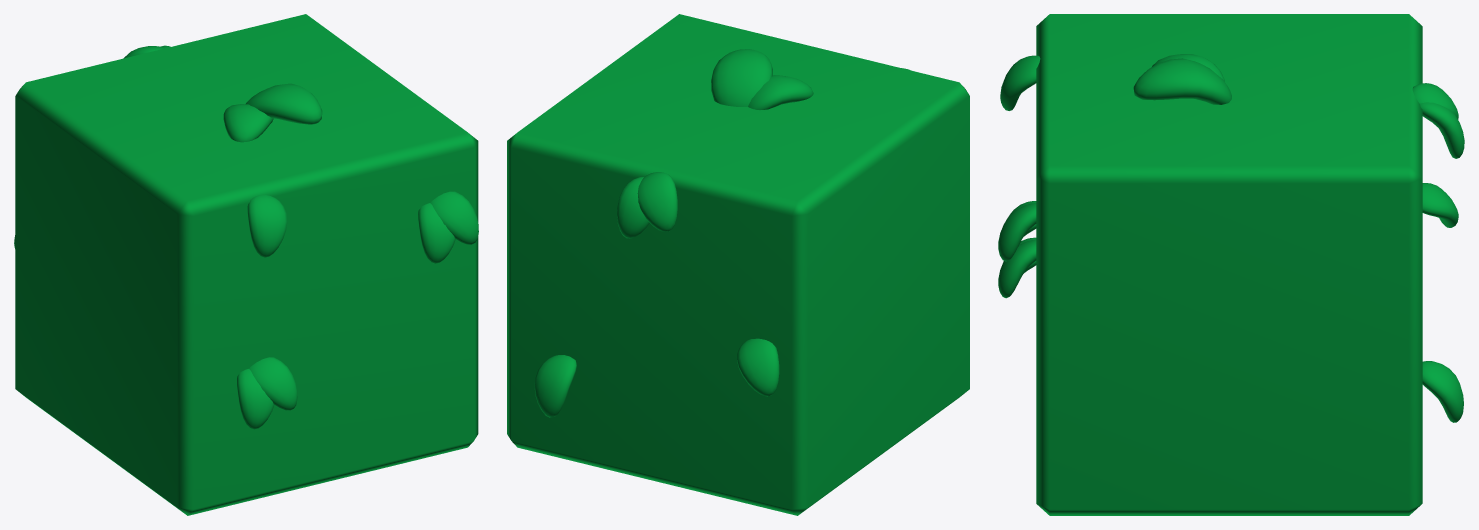
Rendered from Town_11_Hedge_3.glb.
The picture shows the model from 3 angles, left to right: view 1: azimuth 30°, elevation 25°; view 2: azimuth 150°, elevation 25°; view 3: azimuth 270°, elevation 25°; orthographic projection. The views are drawn at different scales.
Visible parts, largest first — view 1: Town_11_Hedge_3; view 2: Town_11_Hedge_3; view 3: Town_11_Hedge_3.
Boxes of the visible parts, left/top/right/bottom form: Town_11_Hedge_3: left=14, top=14, right=478, bottom=515; Town_11_Hedge_3: left=507, top=14, right=969, bottom=515; Town_11_Hedge_3: left=998, top=14, right=1464, bottom=515.
Size of the model in its own units: 1.43 by 1.57 by 1.73.
Materials: 1 (1 with a texture image).
